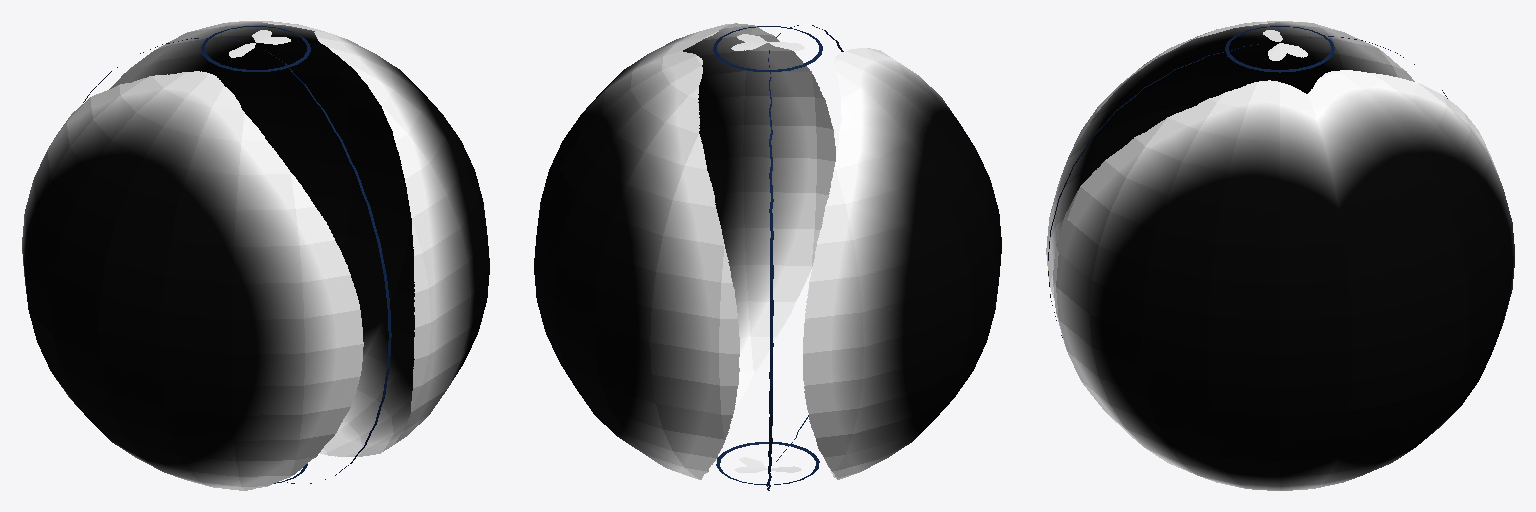
The picture shows the model from 3 angles: view 1: azimuth 30°, elevation 25°; view 2: azimuth 150°, elevation 25°; view 3: azimuth 270°, elevation 25°; orthographic projection.
Parts seen in each view (by area): view 1: pSphere5; view 2: pSphere5; view 3: pSphere5.
Part boxes in pixels (x1,y1,x2,y2): pSphere5: (22, 21, 489, 490); pSphere5: (534, 23, 1001, 490); pSphere5: (1046, 21, 1514, 490).
Size of the model in its own units: 2 by 2 by 2.
1 materials, 1 textured.